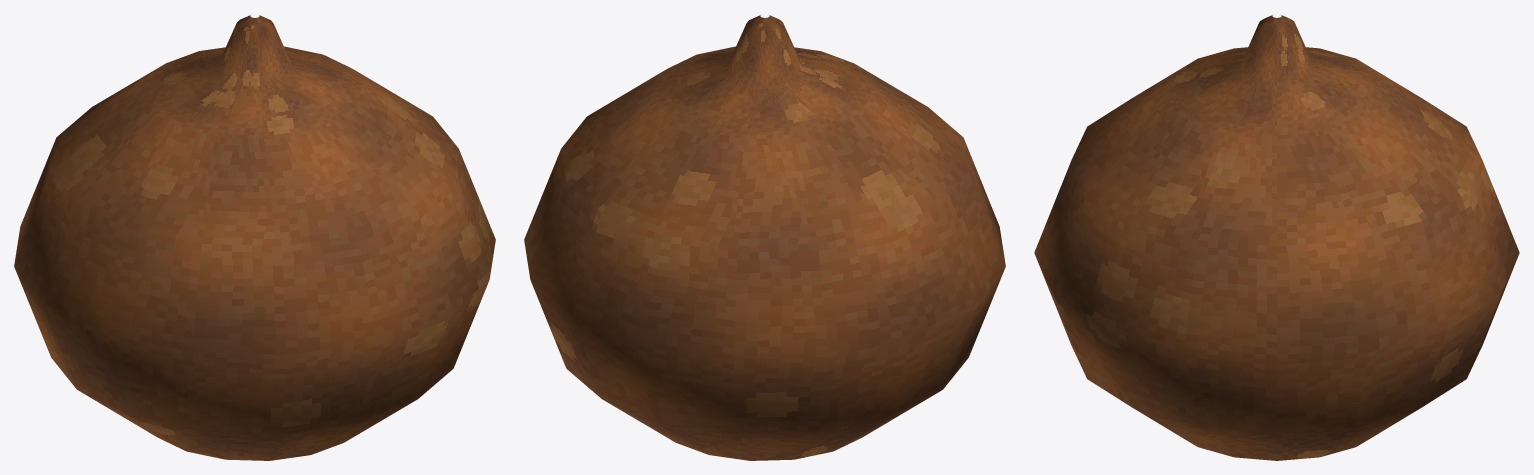
File: borojo_selva.glb
3 renders of one model, left to right at view 1: azimuth 30°, elevation 25°; view 2: azimuth 150°, elevation 25°; view 3: azimuth 270°, elevation 25°, orthographic.
Visible parts, largest first — view 1: borojo_selva; view 2: borojo_selva; view 3: borojo_selva.
Boxes of the visible parts, box(x1,y1,x2,y2) form: borojo_selva: box(14, 15, 495, 460); borojo_selva: box(524, 15, 1005, 460); borojo_selva: box(1034, 15, 1519, 460).
Size of the model in its own units: 1.04 by 1 by 1.04.
Materials: 1 (1 with a texture image).
